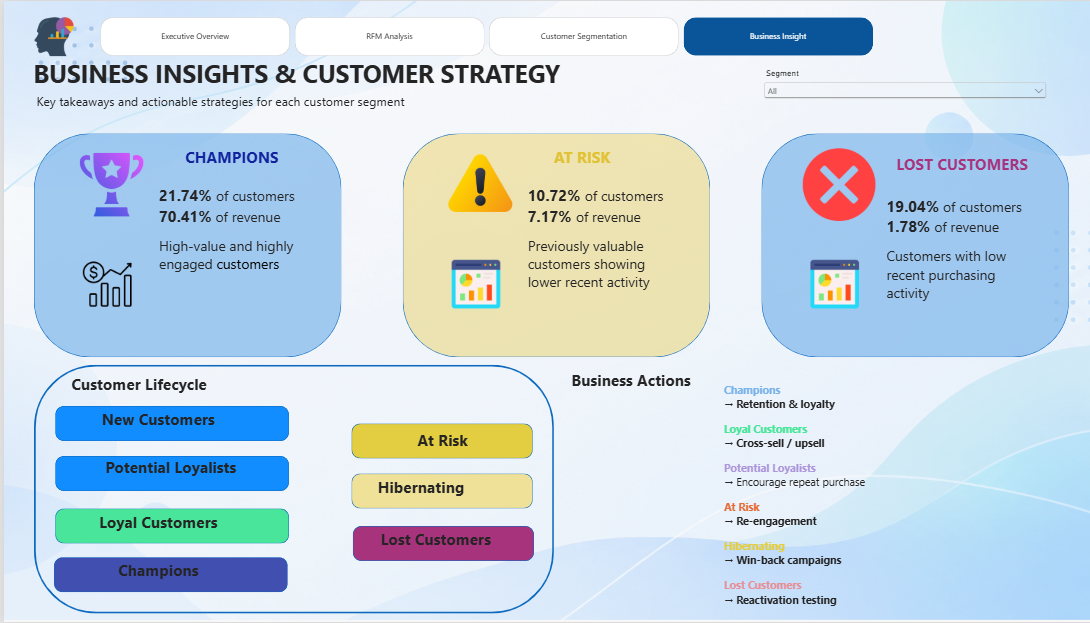

The dashboard page shown, as its layout file describes it:
{"tool":"powerbi","page":{"name":"Business Insight","canvas":[1920,1080],"ordinal":3},"visuals":[{"type":"textbox","box":[39.1,95.7,948.9,63.8],"z":0},{"type":"shape","box":[693.5,230.4,534.8,389.1],"z":0,"group":"g3"},{"type":"shape","box":[1317.4,230.4,534.8,389.1],"z":0,"group":"g2"},{"type":"image","box":[765.2,252.1,126.1,134.8],"z":1000,"group":"g3"},{"type":"image","box":[1389.1,252.1,126.1,134.8],"z":1000,"group":"g2"},{"type":"image","box":[730.5,450,180.4,84.8],"z":2000,"group":"g3"},{"type":"image","box":[1354.4,450,180.4,84.8],"z":2000,"group":"g2"},{"type":"textbox","box":[956.5,252.1,163,39.1],"z":3000,"group":"g3"},{"type":"textbox","box":[1551.3,264.2,239.1,43.5],"z":3000,"group":"g2"},{"type":"textbox","box":[910.9,319.5,256.5,260.9],"z":4000,"group":"g3"},{"type":"textbox","box":[1534.8,319.5,256.5,260.9],"z":4000,"group":"g2"},{"type":"textbox","box":[117.4,647.8,263.5,55.6],"z":5000},{"type":"textbox","box":[987,641.3,217.4,43.5],"z":6000},{"type":"textbox","box":[1252.2,663,565.2,402.2],"z":7000},{"type":"image","box":[7,27.8,160,68],"z":9000},{"type":"pageNavigator","box":[167.4,28.3,1345.7,67.4],"z":10000},{"type":"textbox","box":[56.5,158.7,745.7,43.5],"z":10001},{"type":"shape","box":[52.2,230.4,534.8,389.1],"z":10002,"group":"g1"},{"type":"image","box":[123.9,252.1,126.1,134.8],"z":10003,"group":"g1"},{"type":"image","box":[89.2,450,180.4,84.8],"z":10004,"group":"g1"},{"type":"textbox","box":[315.2,252.1,163,39.1],"z":10005,"group":"g1"},{"type":"textbox","box":[269.6,319.5,256.5,260.9],"z":10006,"group":"g1"},{"type":"group","id":"g1","title":"Group 1","box":[52.2,230.4,534.8,389.1],"z":10007},{"type":"group","id":"g2","title":"Group 1","box":[1317.4,230.4,534.8,389.1],"z":10008},{"type":"group","id":"g3","title":"Group 1","box":[693.5,230.4,534.8,389.1],"z":10009},{"type":"shape","box":[52.2,632.6,904.3,432.6],"z":10010},{"type":"shape","box":[89.1,704.3,406.5,60.9],"z":10011},{"type":"shape","box":[89.1,791.3,406.5,60.9],"z":10012},{"type":"shape","box":[89.1,882.6,406.5,60.9],"z":10013},{"type":"shape","box":[87,967.4,406.5,60.9],"z":10014},{"type":"shape","box":[604.3,734.8,315.2,60.9],"z":10015},{"type":"shape","box":[604.3,821.7,315.2,60.9],"z":10016},{"type":"shape","box":[606.5,913,315.2,60.9],"z":10017},{"type":"textbox","box":[78.3,708.7,380.4,56.5],"z":10018},{"type":"textbox","box":[100,791.3,380.4,56.5],"z":10019},{"type":"textbox","box":[78.3,887,380.4,56.5],"z":10020},{"type":"textbox","box":[78.3,971.7,380.4,56.5],"z":10021},{"type":"textbox","box":[639.1,745.7,247.8,50],"z":10022},{"type":"textbox","box":[650,826.1,228.3,50],"z":10023},{"type":"textbox","box":[647.8,917.4,228.3,50],"z":10024},{"type":"slicer","fields":{"Values":["customer_rfm_final.Segment"]},"box":[1317.5,117.5,500,57.5],"z":10025}]}

Visuals, with their boxes on the page's 1920x1080 design canvas (x1, y1, x2, y2). These are canvas units, not pixel positions in the 1090x623 screenshot, which may show the page scaled, cropped or inside an application window:
textbox: bbox=(39, 96, 988, 160)
shape: bbox=(694, 230, 1228, 620)
shape: bbox=(1317, 230, 1852, 620)
image: bbox=(765, 252, 891, 387)
image: bbox=(1389, 252, 1515, 387)
image: bbox=(730, 450, 911, 535)
image: bbox=(1354, 450, 1535, 535)
textbox: bbox=(956, 252, 1120, 291)
textbox: bbox=(1551, 264, 1790, 308)
textbox: bbox=(911, 320, 1167, 580)
textbox: bbox=(1535, 320, 1791, 580)
textbox: bbox=(117, 648, 381, 703)
textbox: bbox=(987, 641, 1204, 685)
textbox: bbox=(1252, 663, 1817, 1065)
image: bbox=(7, 28, 167, 96)
pageNavigator: bbox=(167, 28, 1513, 96)
textbox: bbox=(56, 159, 802, 202)
shape: bbox=(52, 230, 587, 620)
image: bbox=(124, 252, 250, 387)
image: bbox=(89, 450, 270, 535)
textbox: bbox=(315, 252, 478, 291)
textbox: bbox=(270, 320, 526, 580)
"Group 1" group: bbox=(52, 230, 587, 620)
"Group 1" group: bbox=(1317, 230, 1852, 620)
"Group 1" group: bbox=(694, 230, 1228, 620)
shape: bbox=(52, 633, 956, 1065)
shape: bbox=(89, 704, 496, 765)
shape: bbox=(89, 791, 496, 852)
shape: bbox=(89, 883, 496, 944)
shape: bbox=(87, 967, 494, 1028)
shape: bbox=(604, 735, 920, 796)
shape: bbox=(604, 822, 920, 883)
shape: bbox=(606, 913, 922, 974)
textbox: bbox=(78, 709, 459, 765)
textbox: bbox=(100, 791, 480, 848)
textbox: bbox=(78, 887, 459, 944)
textbox: bbox=(78, 972, 459, 1028)
textbox: bbox=(639, 746, 887, 796)
textbox: bbox=(650, 826, 878, 876)
textbox: bbox=(648, 917, 876, 967)
slicer - customer_rfm_final.Segment: bbox=(1318, 118, 1818, 175)
